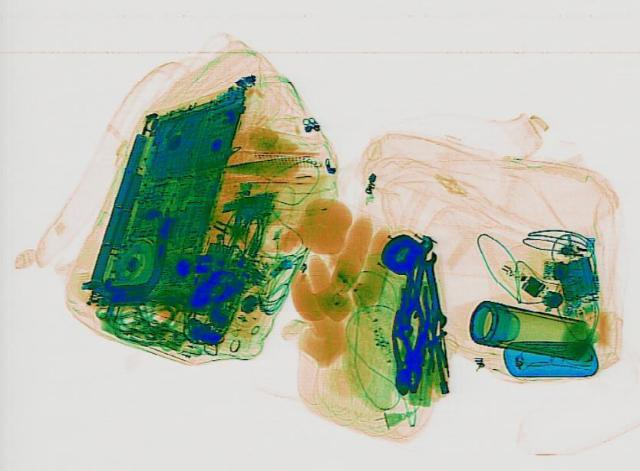Pliers: (386, 308, 428, 394), (394, 312, 432, 391)
Wrench: (416, 250, 449, 332)
